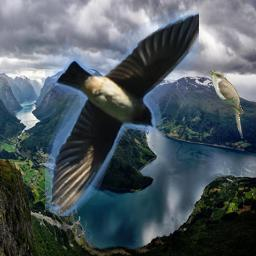Cuckoo: (207, 69, 245, 139)
Swallow: (45, 9, 199, 216)
